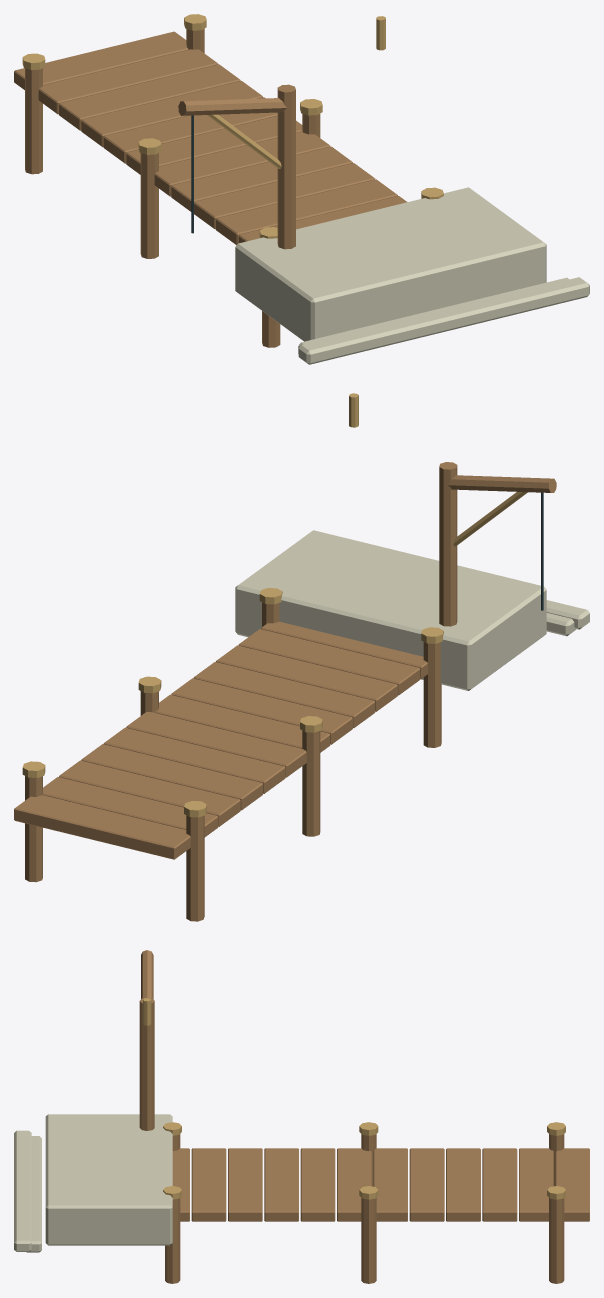
The model's file is level_16.glb.
3 views of the same model, one above another, from view 1: azimuth 30°, elevation 25°; view 2: azimuth 150°, elevation 25°; view 3: azimuth 270°, elevation 25° (orthographic). The views are drawn at different scales.
Visible parts, largest first — view 1: dock — level 16; view 2: dock — level 16; view 3: dock — level 16.
Part boxes in pixels (<box>): dock — level 16: <box>14,14,589,364</box>; dock — level 16: <box>14,393,589,921</box>; dock — level 16: <box>14,950,589,1283</box>.
Bounding box in the file's own units: 4.84 × 4.43 × 9.08.
